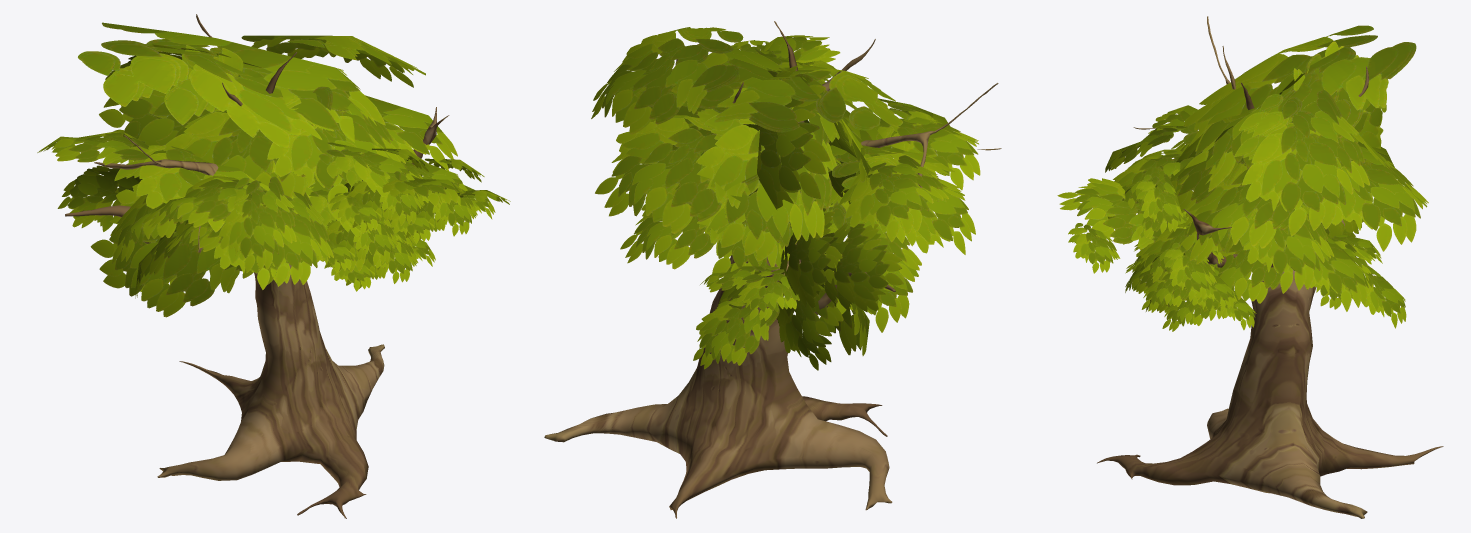
Rendered from cavetree.fbx.
The picture shows the model from 3 angles, left to right: view 1: azimuth 30°, elevation 25°; view 2: azimuth 150°, elevation 25°; view 3: azimuth 270°, elevation 25°; orthographic projection. The views are drawn at different scales.
Parts seen in each view (by area): view 1: grouped_leaves, Tree; view 2: grouped_leaves, Tree; view 3: grouped_leaves, Tree.
Boxes of the visible parts, bbox=[...] form: grouped_leaves: bbox=[37, 22, 510, 317]; Tree: bbox=[65, 14, 449, 518]; grouped_leaves: bbox=[591, 27, 980, 370]; Tree: bbox=[544, 21, 1001, 518]; grouped_leaves: bbox=[1057, 25, 1428, 331]; Tree: bbox=[1097, 16, 1443, 518].
Bounding box in the file's own units: 5.12 × 5.03 × 4.62.
